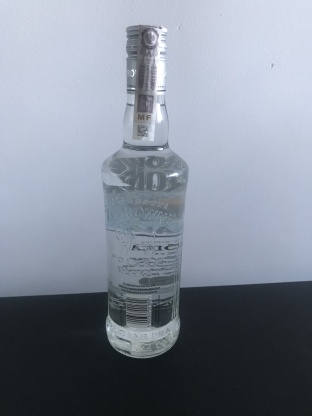nakretka: (122, 21, 170, 98)
